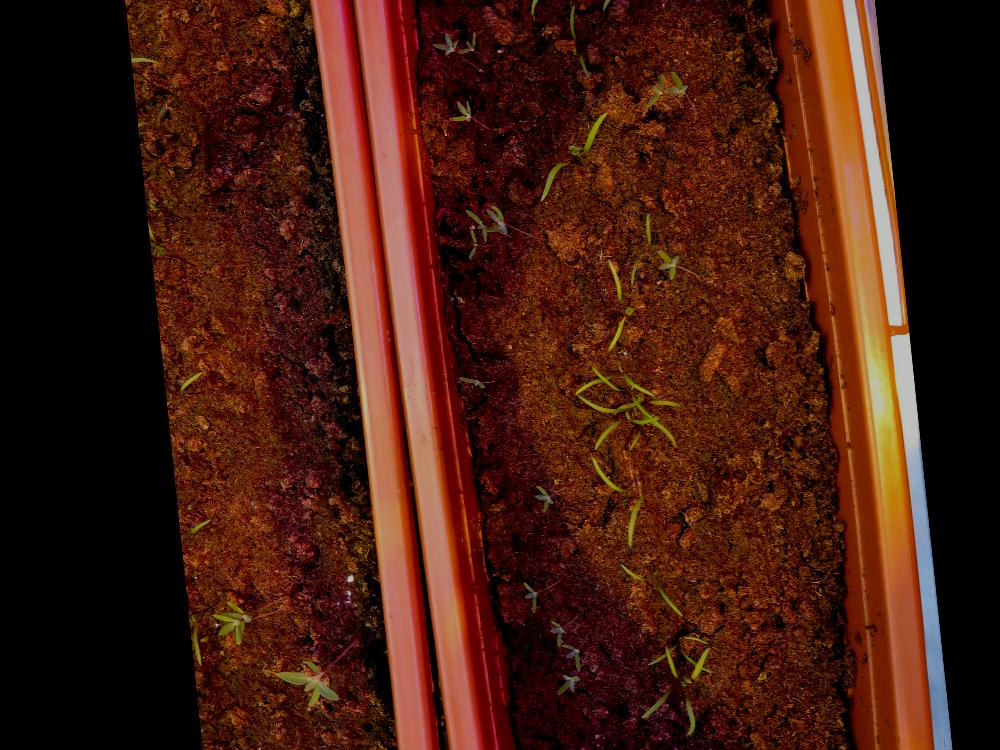weed: (637, 73, 665, 109), (649, 250, 675, 281), (662, 70, 687, 100), (519, 486, 543, 514), (539, 675, 568, 697), (507, 582, 526, 614), (444, 100, 469, 124), (546, 645, 567, 672), (457, 228, 472, 261), (448, 377, 477, 390)
